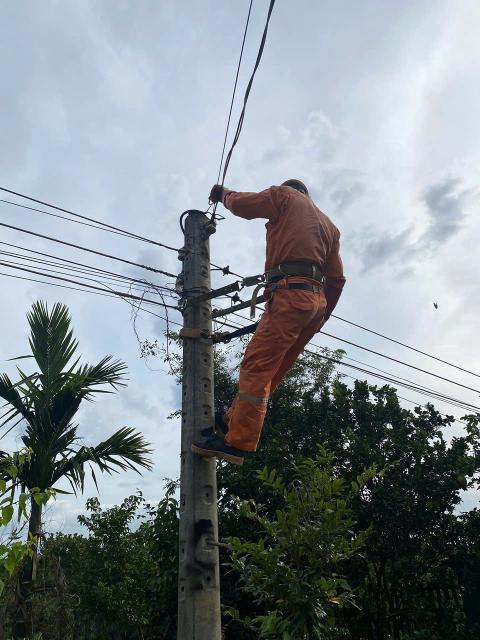gloves: (322, 278, 346, 330), (200, 176, 238, 207)
harness: (252, 254, 335, 287)
helmet: (277, 164, 317, 201)
shoes: (183, 438, 255, 480), (207, 408, 255, 442)
